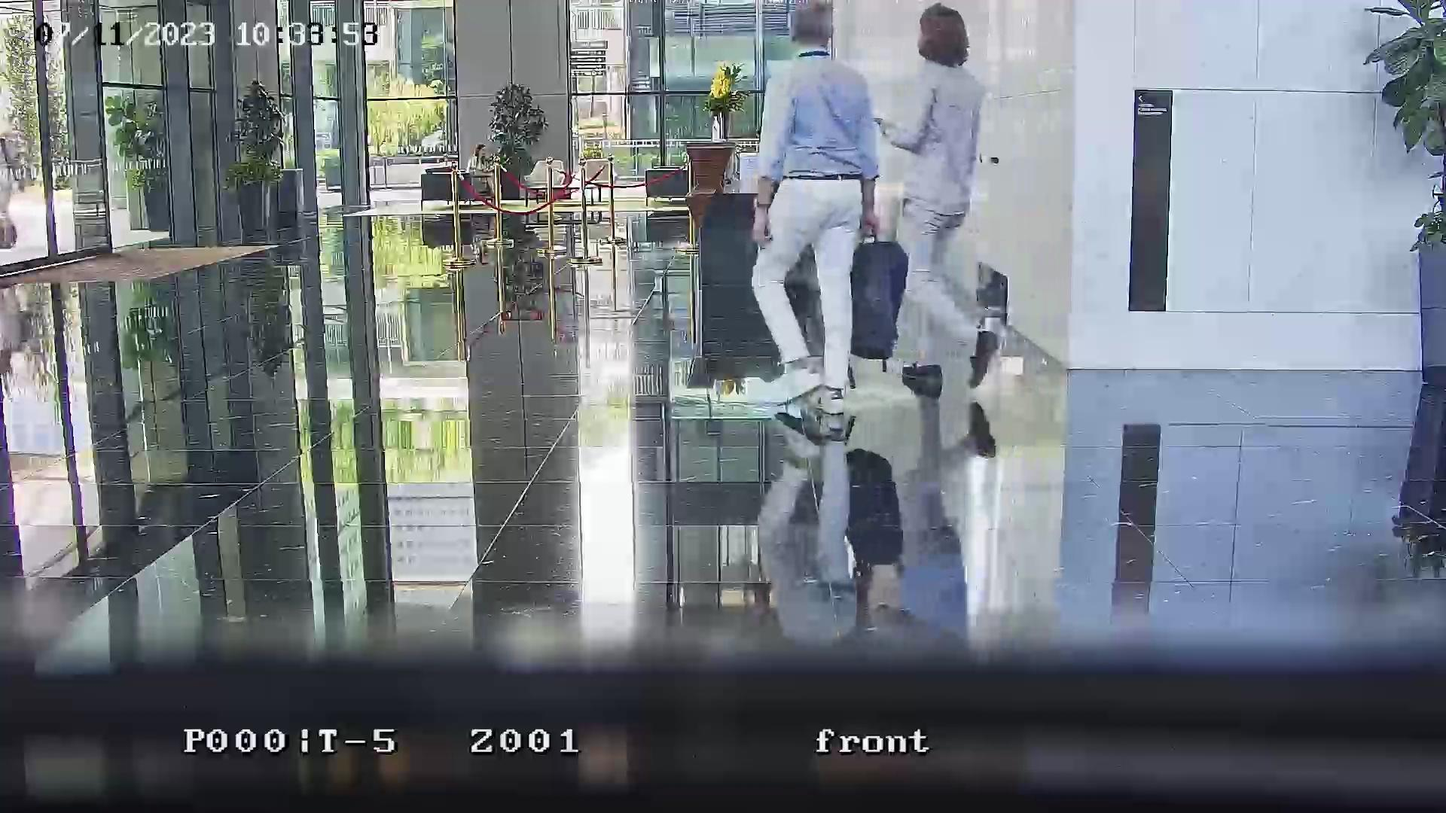person: (749, 2, 881, 403), (877, 2, 986, 384), (467, 143, 499, 204)
